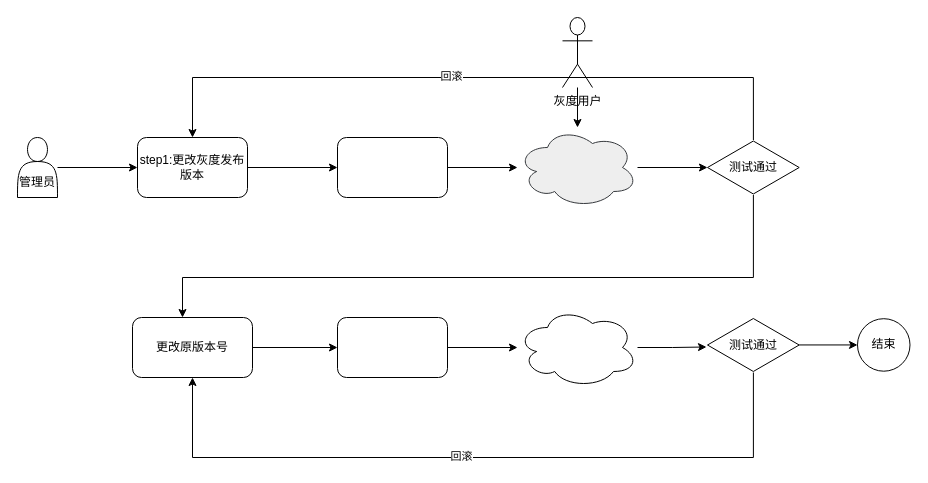
This 928x483 diagram has some shape labels left out. Each missing label, with the box of its shape:
step2:部署发布灰度版本: (336, 136, 448, 198)
原版本: (516, 306, 638, 388)
灰度版本: (516, 126, 638, 208)
部署发布原版本: (336, 316, 448, 378)
